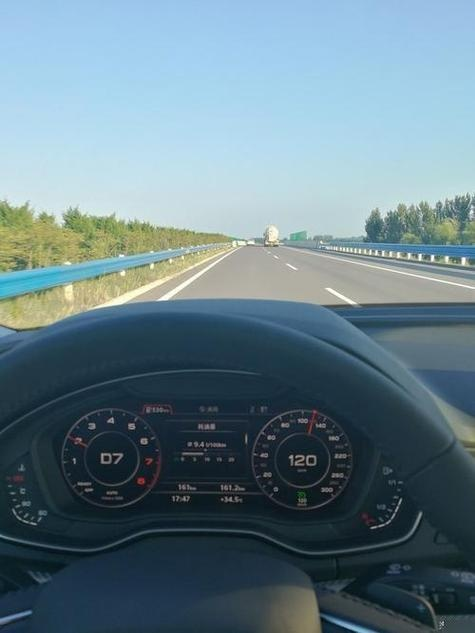lane: (330, 250, 475, 290), (166, 245, 246, 303), (326, 286, 359, 310), (284, 262, 296, 271)
